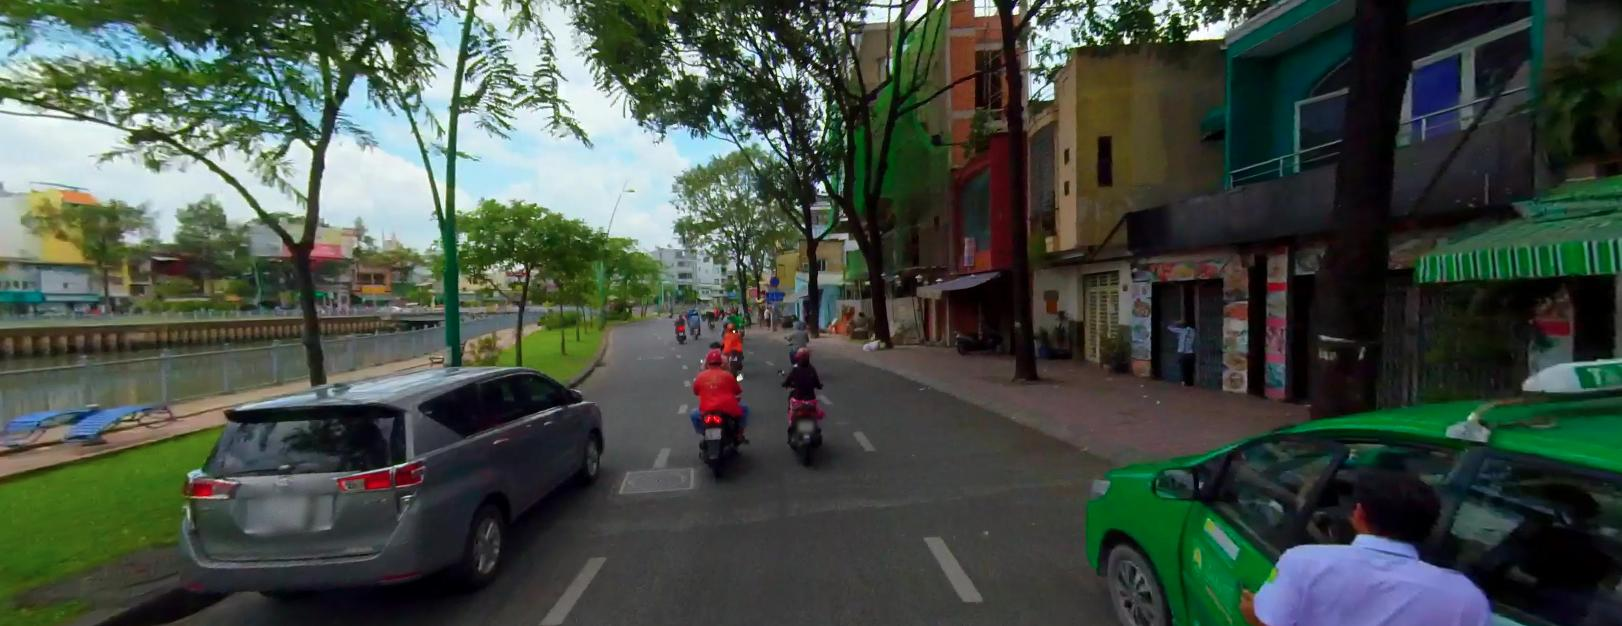Cam dung va do: (769, 275, 778, 284)
